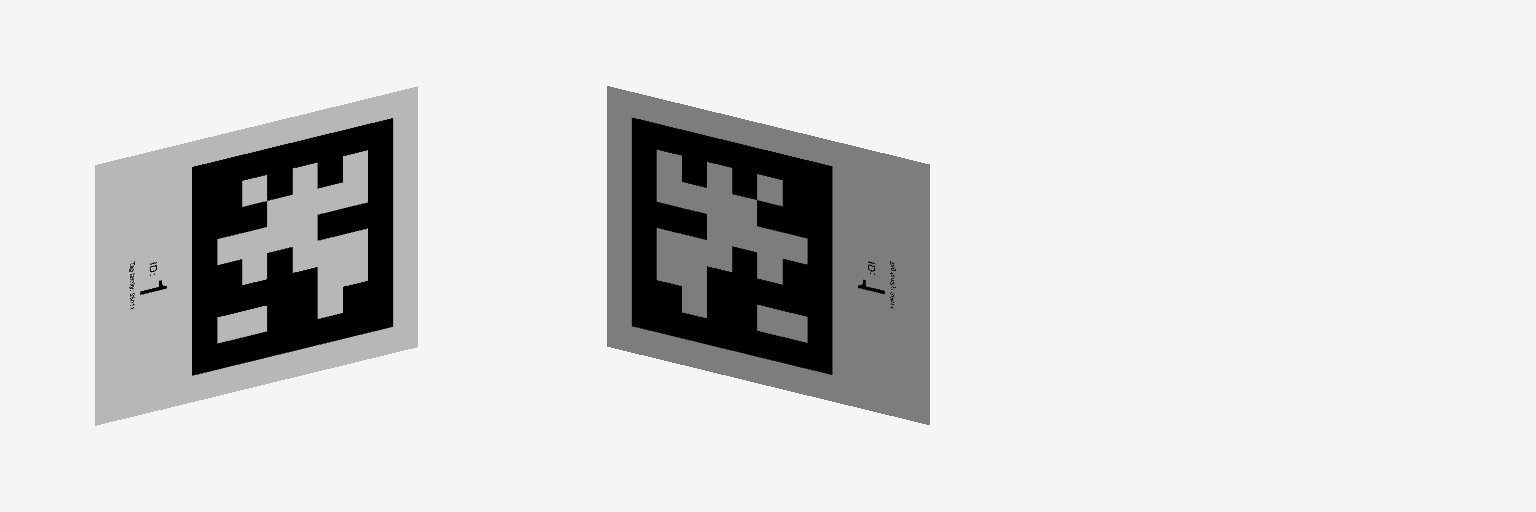
The picture shows the model from 3 angles: view 1: azimuth 30°, elevation 25°; view 2: azimuth 150°, elevation 25°; view 3: azimuth 270°, elevation 25°; orthographic projection.
Parts seen in each view (by area): view 1: Cube; view 2: Cube; view 3: none.
Boxes of the visible parts, box(x1,y1,x2,y2) form: Cube: box(95, 86, 417, 425); Cube: box(607, 86, 929, 424).
Size of the model in its own units: 0.22 by 0.17 by 0.001.
Materials: 1 (1 with a texture image).